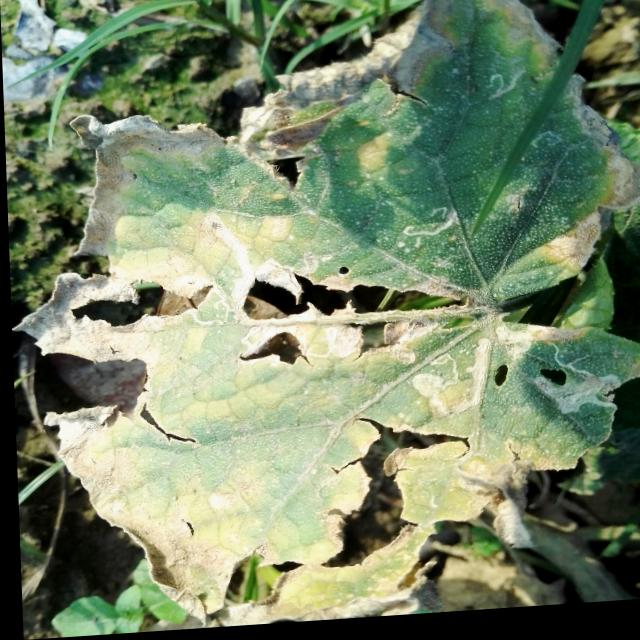Anthracnose: (236, 255, 477, 373), (314, 412, 476, 581), (66, 272, 217, 339), (533, 360, 572, 399), (488, 361, 514, 399)
